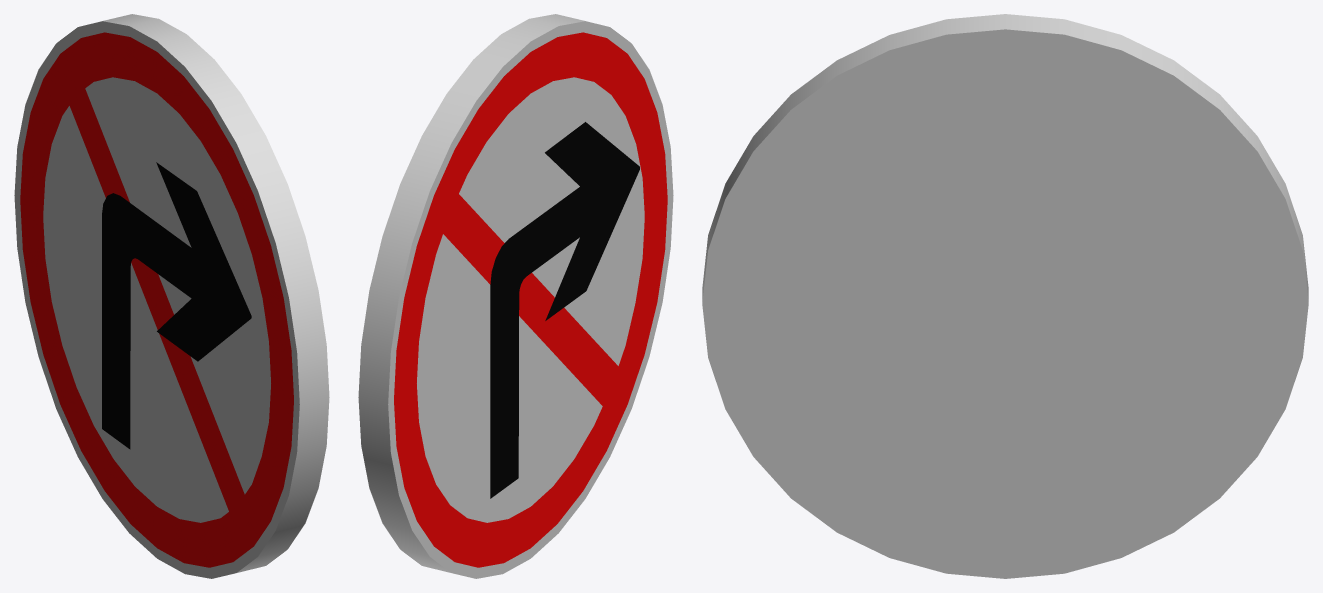
File: No_Right_Turn.fbx
3 views of the same model, side by side, from view 1: azimuth 30°, elevation 25°; view 2: azimuth 150°, elevation 25°; view 3: azimuth 270°, elevation 25° (orthographic). The views are drawn at different scales.
Visible parts, largest first — view 1: No_Right_Turn; view 2: No_Right_Turn; view 3: No_Right_Turn.
Part boxes in pixels (x1,y1,x2,y2): No_Right_Turn: [14, 14, 329, 578]; No_Right_Turn: [358, 14, 673, 578]; No_Right_Turn: [702, 14, 1308, 578].
Size of the model in its own units: 0.075 by 1 by 1.
